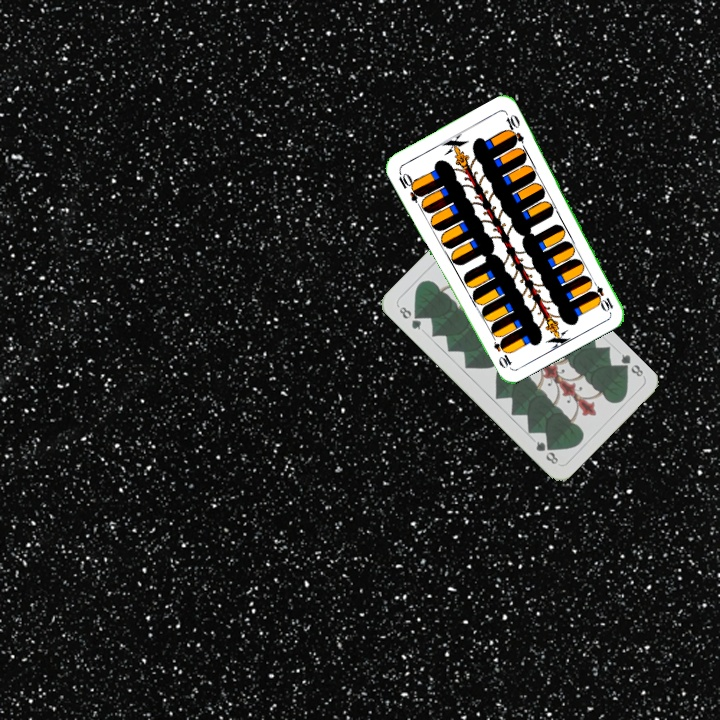E10: (394, 167, 424, 204), (587, 276, 616, 314)
G8: (614, 350, 646, 379), (395, 302, 424, 333)
